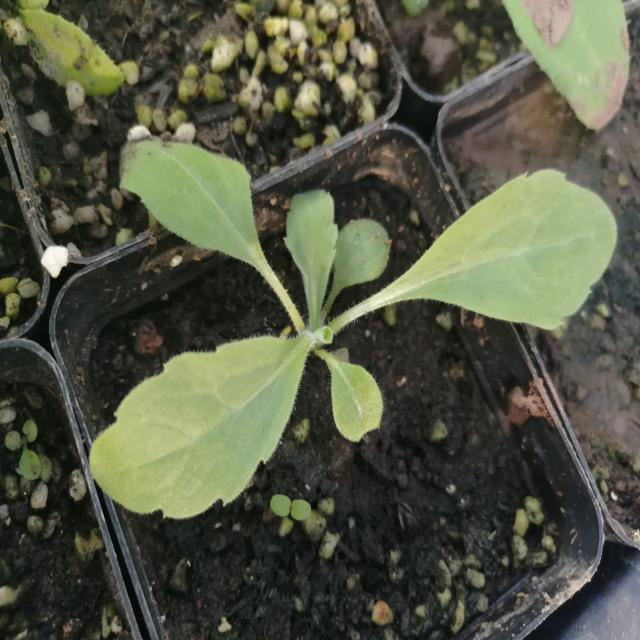horseweed: (80, 125, 638, 526)
